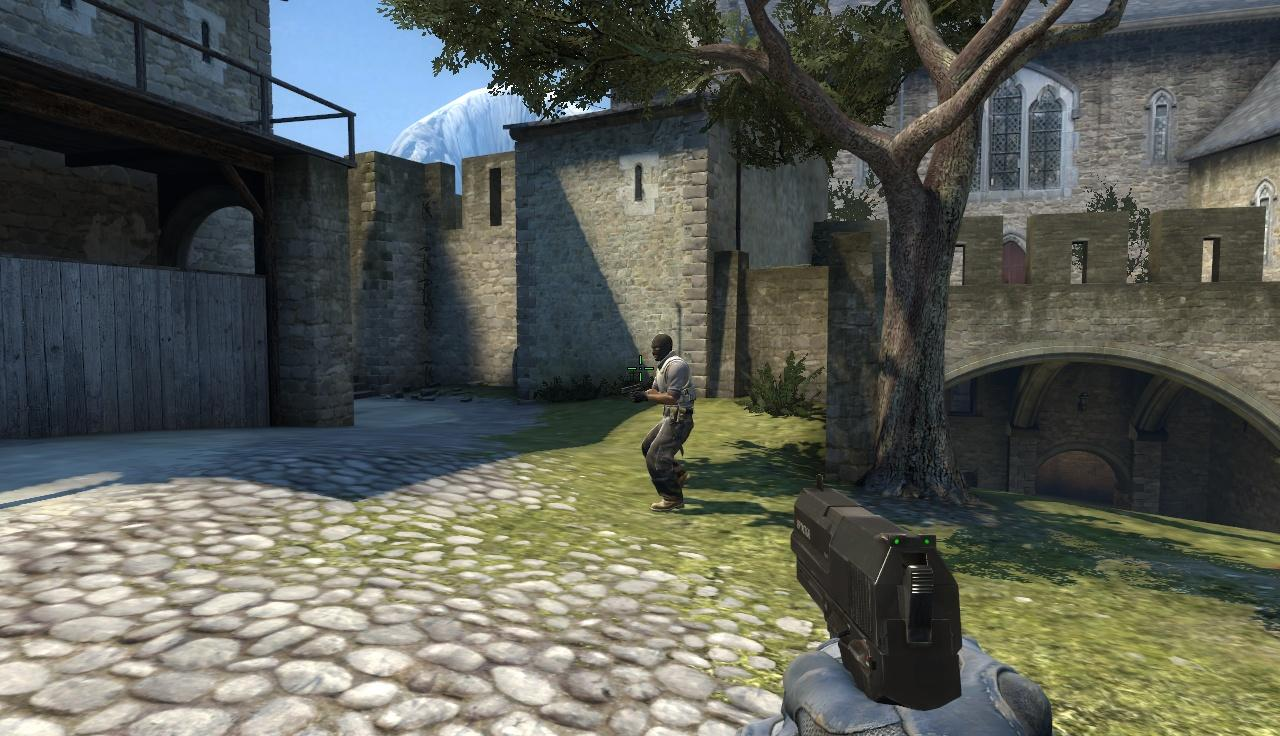pistol: (783, 485, 1059, 736)
tt: (643, 333, 697, 516)
tthead: (649, 333, 672, 364)
